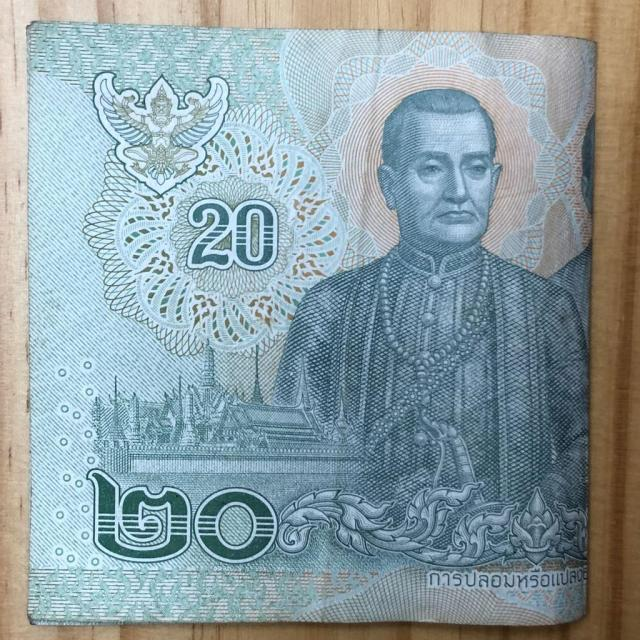THAI20: (25, 22, 598, 636)
